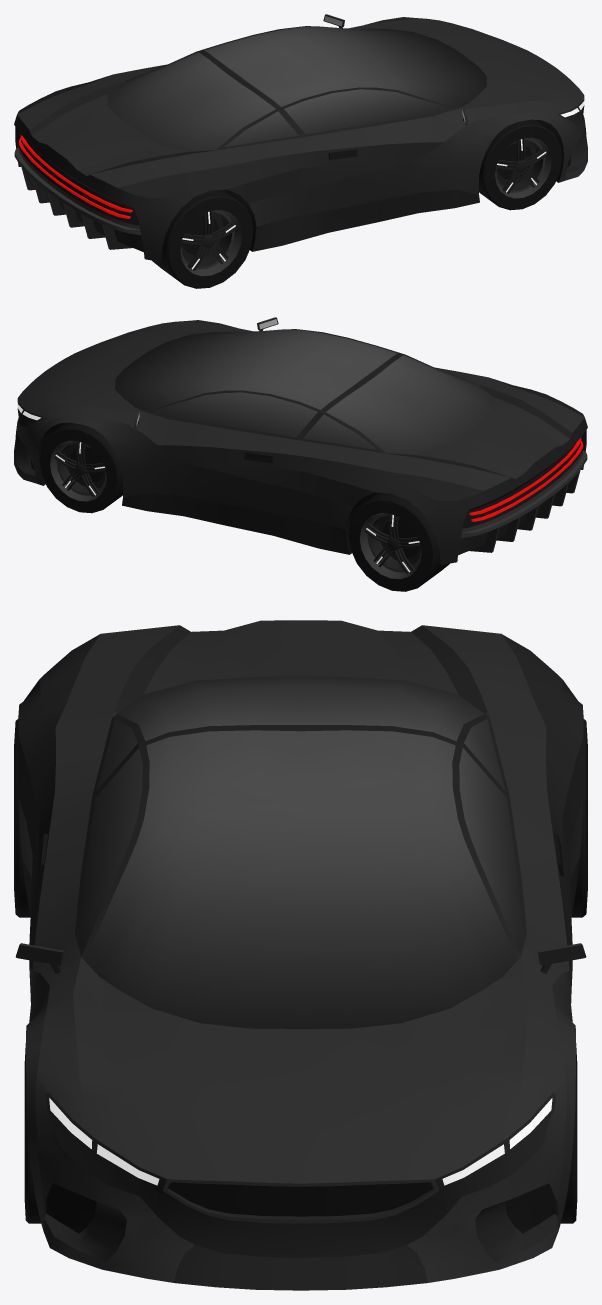
The model's file is Car_122.glb.
3 renders of one model, top to bottom at view 1: azimuth 30°, elevation 25°; view 2: azimuth 150°, elevation 25°; view 3: azimuth 270°, elevation 25°, orthographic. The views are drawn at different scales.
Parts seen in each view (by area): view 1: Car_122, wheel_3_Car_122_Wheel_2R, wheel_1_Car_122_Wheel_1R; view 2: Car_122, wheel_2_Car_122_Wheel_2L, wheel_0_Car_122_Wheel_1L; view 3: Car_122, wheel_3_Car_122_Wheel_2R, wheel_2_Car_122_Wheel_2L, wheel_1_Car_122_Wheel_1R, wheel_0_Car_122_Wheel_1L.
Part boxes in pixels (x1=…): Car_122: x1=14, y1=14, x2=587, y2=261; wheel_3_Car_122_Wheel_2R: x1=152, y1=190, x2=253, y2=288; wheel_1_Car_122_Wheel_1R: x1=479, y1=119, x2=562, y2=210; Car_122: x1=14, y1=317, x2=587, y2=564; wheel_2_Car_122_Wheel_2L: x1=348, y1=493, x2=449, y2=591; wheel_0_Car_122_Wheel_1L: x1=39, y1=422, x2=122, y2=513; Car_122: x1=15, y1=620, x2=586, y2=1290; wheel_3_Car_122_Wheel_2R: x1=14, y1=719, x2=30, y2=917; wheel_2_Car_122_Wheel_2L: x1=571, y1=719, x2=587, y2=917; wheel_1_Car_122_Wheel_1R: x1=24, y1=1043, x2=41, y2=1223; wheel_0_Car_122_Wheel_1L: x1=560, y1=1043, x2=577, y2=1223.
Size of the model in its own units: 4.51 by 1.18 by 2.21.
3 materials, 3 textured.
